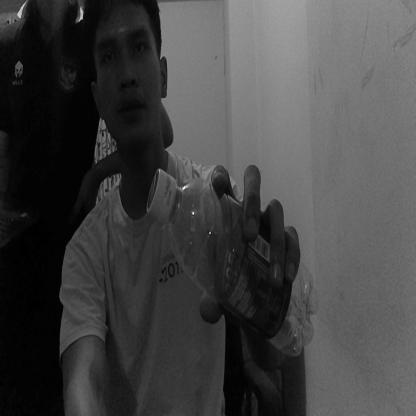plastic_bottles: (143, 171, 318, 355)
